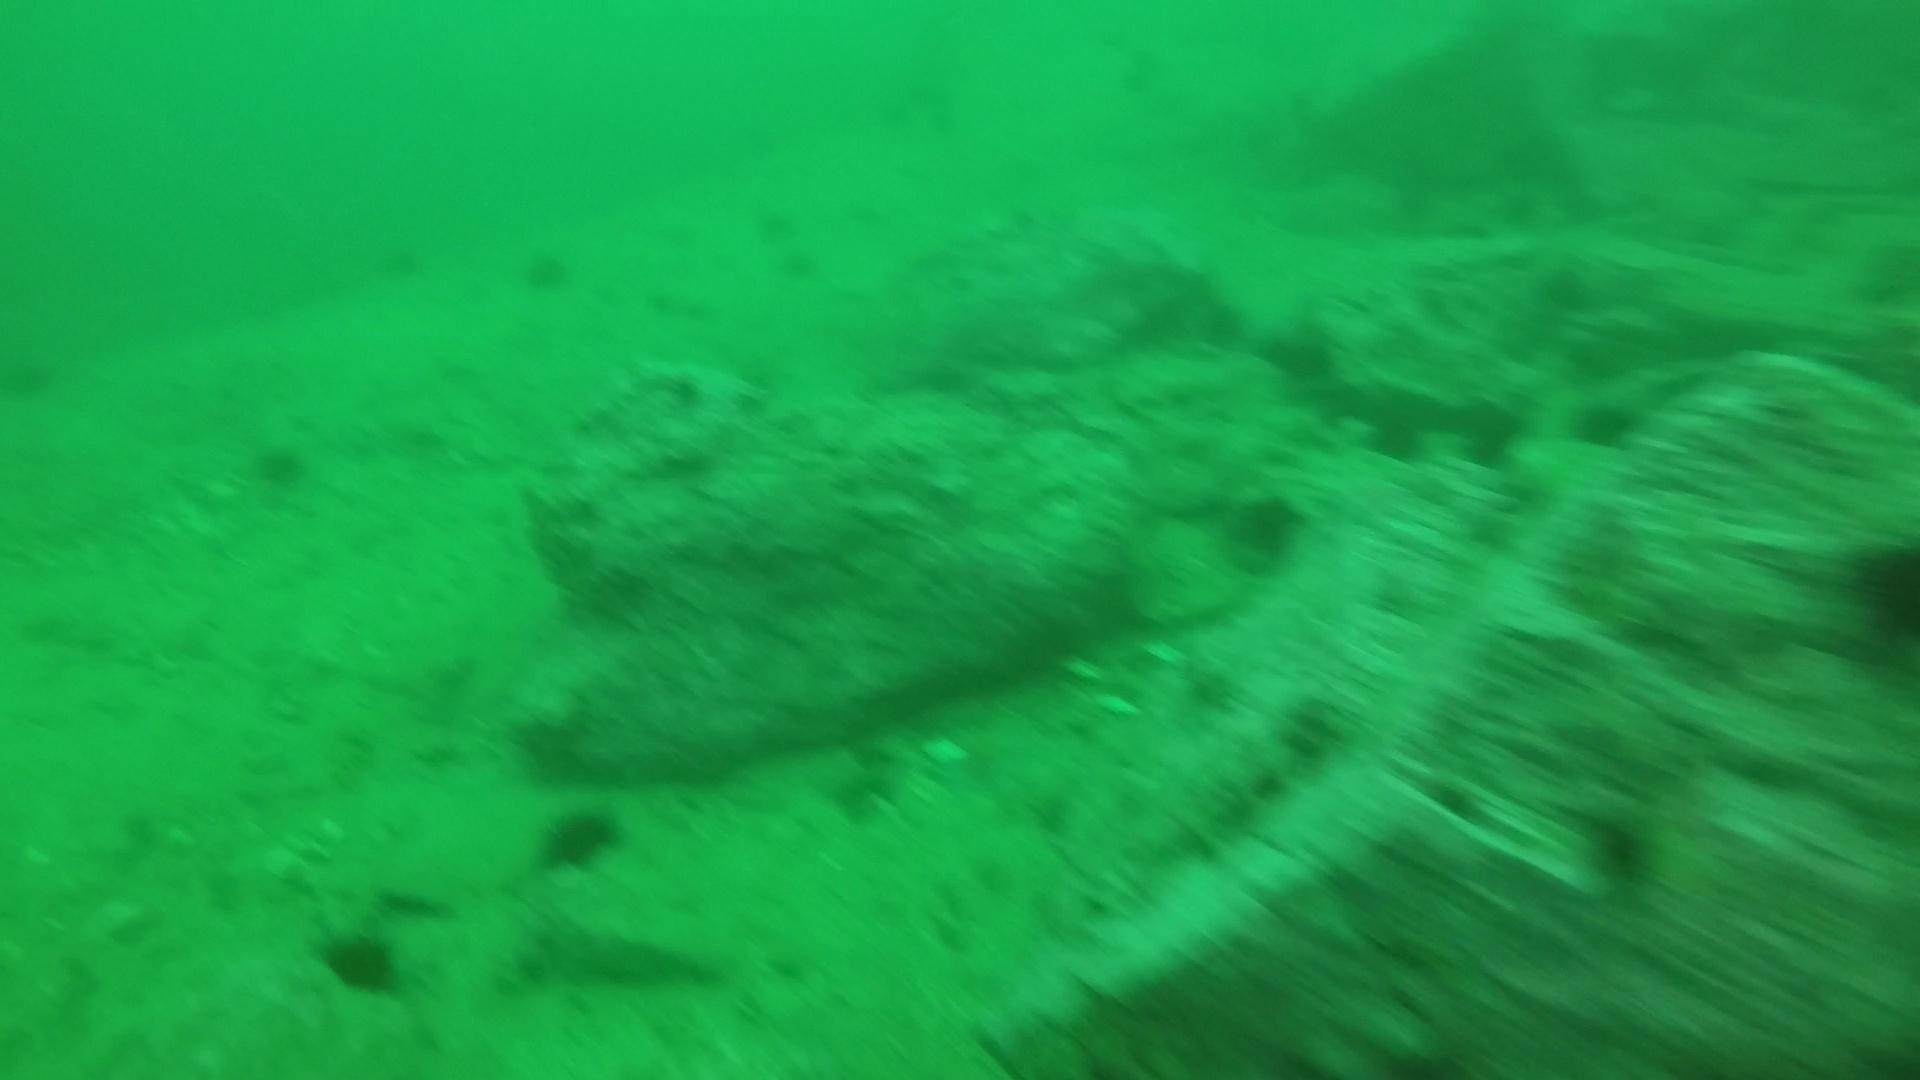echinus: (1841, 527, 1919, 646), (1217, 487, 1309, 574), (314, 920, 407, 1004), (531, 798, 628, 878), (1573, 806, 1663, 891), (1458, 407, 1538, 469), (1255, 320, 1335, 382), (1185, 289, 1265, 351), (1520, 266, 1600, 328), (1478, 177, 1557, 239), (1545, 169, 1625, 231), (1567, 392, 1644, 454), (1356, 407, 1433, 469), (245, 435, 315, 495), (738, 200, 799, 257), (847, 190, 907, 247), (373, 231, 434, 287), (1, 357, 62, 414), (516, 241, 576, 297), (762, 240, 823, 295)
holothurian: (1113, 674, 1358, 877)
